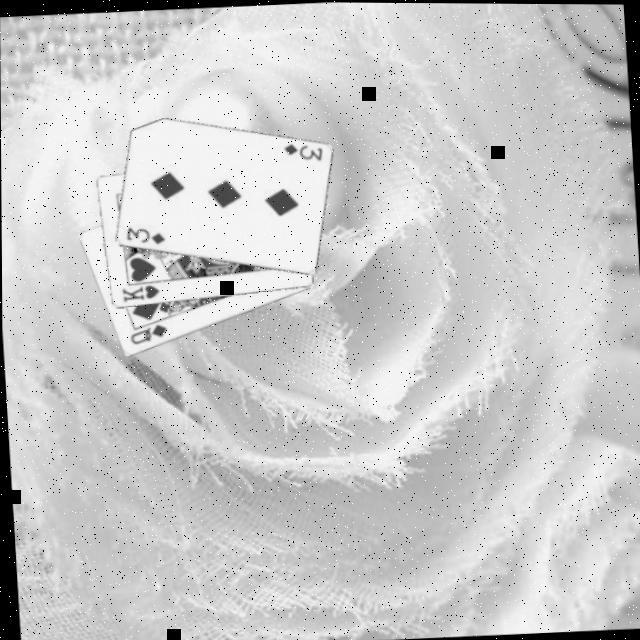3D: (124, 220, 169, 247), (282, 137, 327, 162)
KH: (120, 279, 164, 303)
QD: (128, 319, 172, 346)
